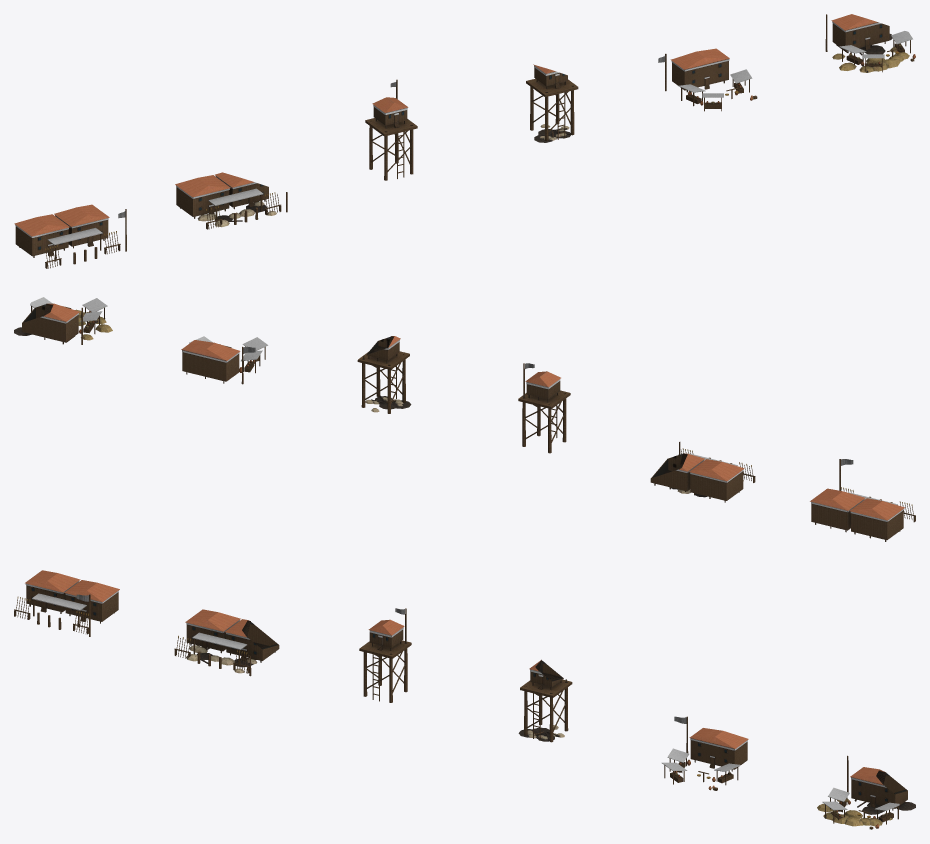
File: rts-classical-monsoon-96b939d9.glb
3 renders of one model, top to bottom at view 1: azimuth 30°, elevation 25°; view 2: azimuth 150°, elevation 25°; view 3: azimuth 330°, elevation 25°, orthographic.
Parts seen in each view (by area): view 1: LOD0, LOD0.001, LOD0.005, LOD0.004, LOD0.002, LOD0.003; view 2: LOD0, LOD0.001, LOD0.005, LOD0.004, LOD0.003, LOD0.002; view 3: LOD0.001, LOD0, LOD0.005, LOD0.004, LOD0.002, LOD0.003.
Part boxes in pixels (x1,y1,x2,y2): LOD0: [14, 204, 126, 268]; LOD0.001: [175, 172, 287, 229]; LOD0.005: [825, 14, 915, 72]; LOD0.004: [658, 48, 757, 111]; LOD0.002: [365, 79, 417, 180]; LOD0.003: [526, 64, 578, 142]; LOD0: [810, 459, 915, 541]; LOD0.001: [650, 442, 755, 502]; LOD0.005: [14, 297, 112, 344]; LOD0.004: [181, 336, 267, 384]; LOD0.003: [357, 336, 411, 413]; LOD0.002: [518, 363, 570, 453]; LOD0.001: [174, 609, 279, 676]; LOD0: [14, 570, 119, 636]; LOD0.005: [817, 755, 915, 829]; LOD0.004: [662, 716, 748, 790]; LOD0.002: [359, 608, 411, 702]; LOD0.003: [518, 659, 572, 742].
Size of what is drawn, in the model's own units: 16.35 by 1.48 by 1.38.
2 materials, 2 textured.
